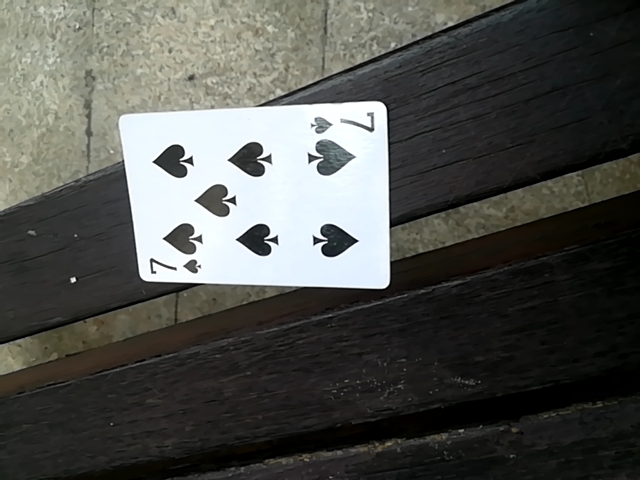ht 7: (106, 111, 386, 303)
